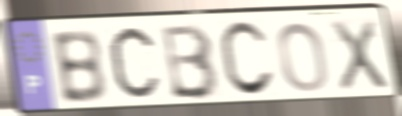B: (161, 21, 222, 102), (48, 27, 110, 106)
C: (105, 22, 164, 107), (217, 19, 277, 101)
O: (275, 20, 331, 95)
X: (328, 17, 391, 94)
